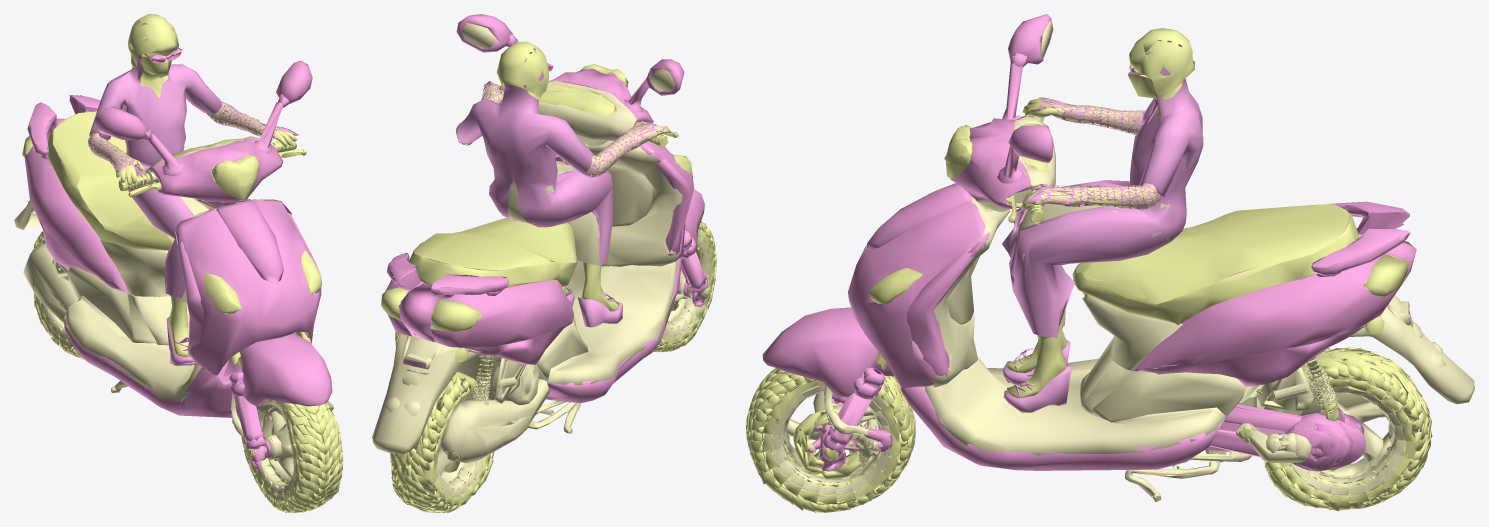
3 views of the same model, side by side, from view 1: azimuth 30°, elevation 25°; view 2: azimuth 150°, elevation 25°; view 3: azimuth 270°, elevation 25° (orthographic). The views are drawn at different scales.
Visible parts, largest first — view 1: lead.004; view 2: lead.004; view 3: lead.004.
Boxes of the visible parts, x1=… form: lead.004: x1=14, y1=14, x2=343, y2=512; lead.004: x1=372, y1=14, x2=716, y2=512; lead.004: x1=745, y1=14, x2=1474, y2=512.
Bounding box in the file's own units: 1.72 × 2.99 × 4.17.
